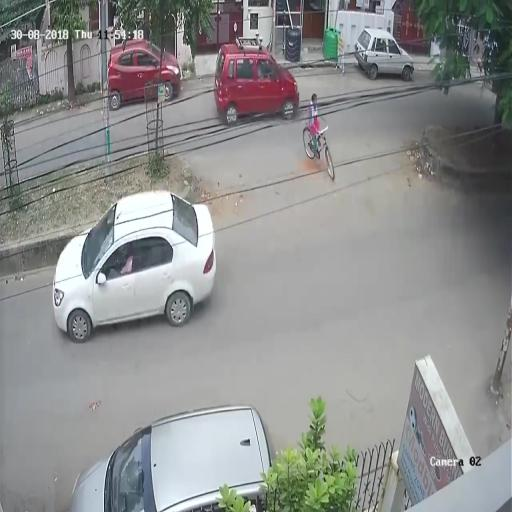小汽车: (54, 188, 216, 338), (76, 398, 274, 512), (214, 33, 298, 122), (107, 44, 180, 111), (357, 25, 415, 80)
自行车: (303, 90, 338, 183)
